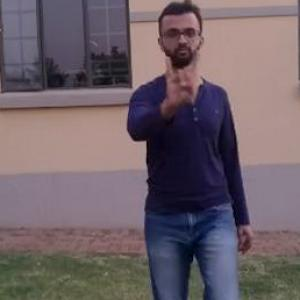takeoff-hand: (150, 42, 206, 109)
